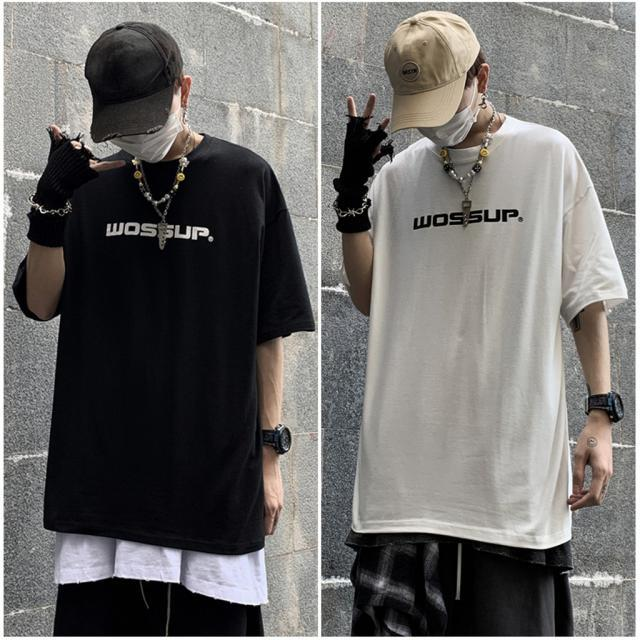Shirt: (18, 132, 314, 554), (346, 119, 630, 556)
